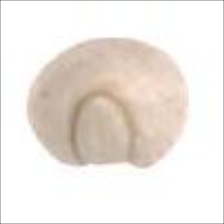L5: (68, 88, 144, 170)
L6: (24, 36, 191, 170)
